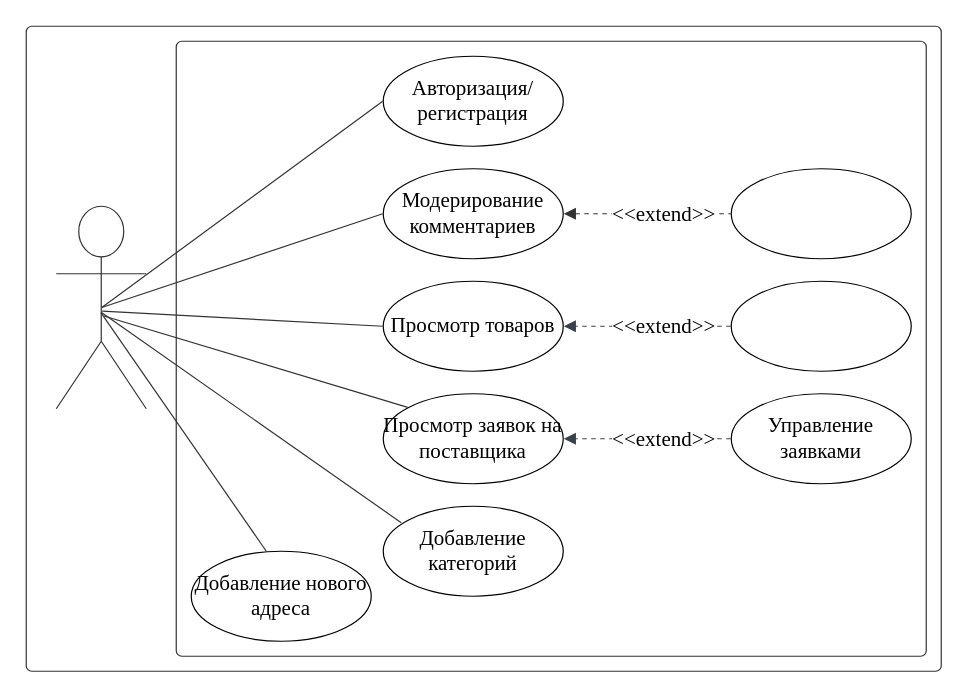
The diagram is 968 pixels wide and 698 high, and some of its shapes have lost their labels. The shapes that lost their labels are listed below. From the top down, each one's box as (x1, y1, x2, y2) in pixels, then its label:
(730, 167, 911, 259): Удаление комментария
(55, 205, 146, 409): Администратор
(730, 280, 911, 371): Удаление товара
